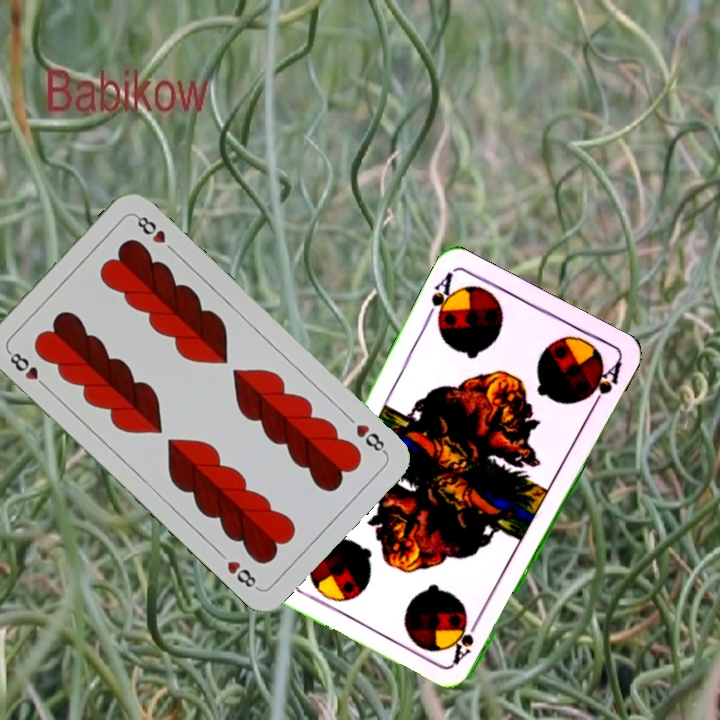H8: (4, 347, 51, 392), (352, 420, 390, 456)
SA: (421, 268, 460, 329), (449, 611, 484, 667)
